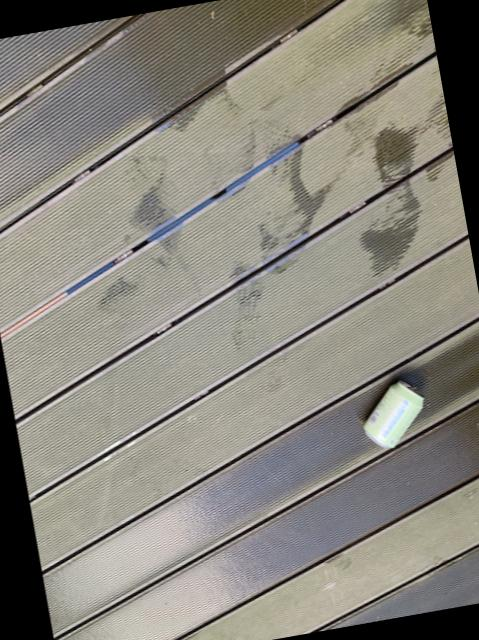metal: (359, 379, 423, 450)
